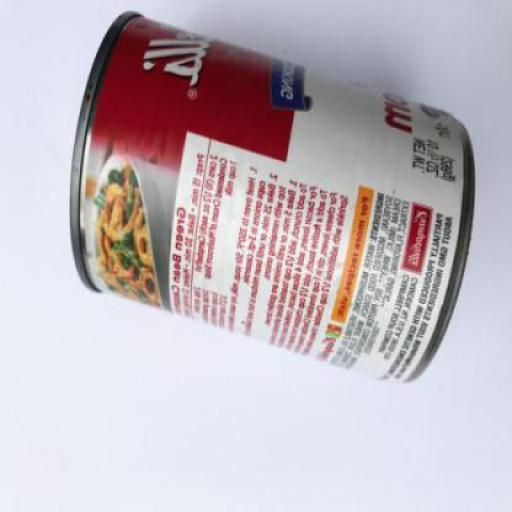metal: (68, 12, 474, 384)
